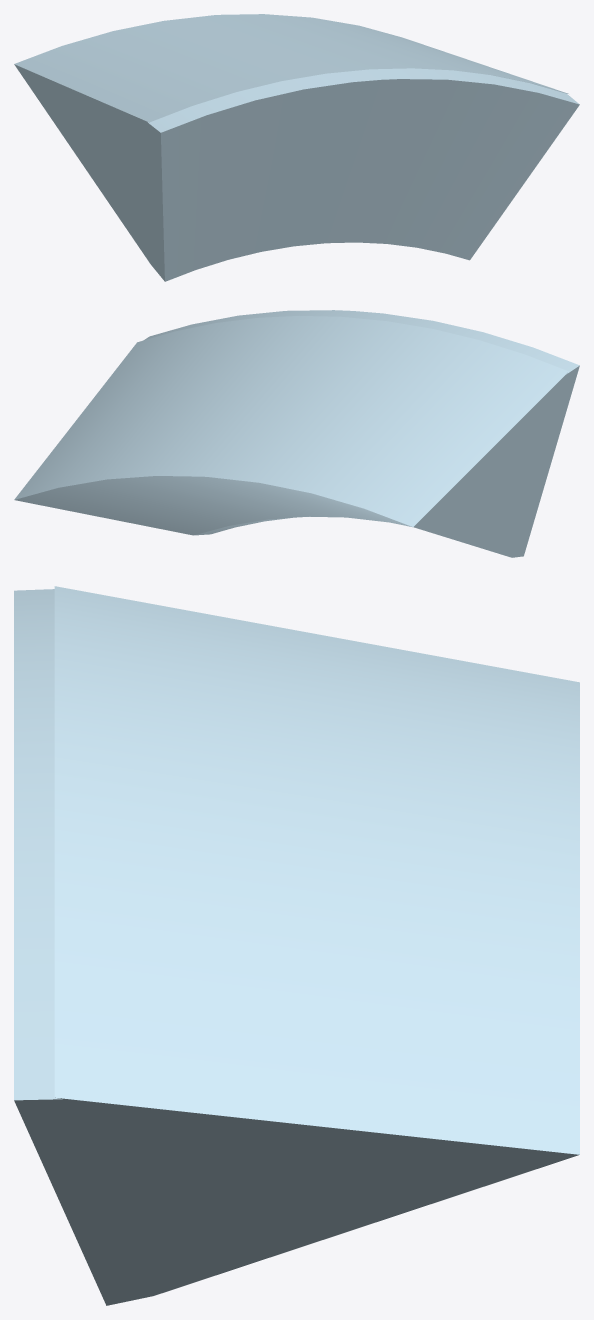
Rendered from Sub_3_Cell_2_3.gltf.
3 renders of one model, top to bottom at view 1: azimuth 30°, elevation 25°; view 2: azimuth 150°, elevation 25°; view 3: azimuth 270°, elevation 25°, orthographic. The views are drawn at different scales.
Visible parts, largest first — view 1: Sub_3_Cell_2_3; view 2: Sub_3_Cell_2_3; view 3: Sub_3_Cell_2_3.
Part boxes in pixels (x1,y1,x2,y2): Sub_3_Cell_2_3: [14, 14, 579, 281]; Sub_3_Cell_2_3: [14, 310, 579, 557]; Sub_3_Cell_2_3: [14, 586, 579, 1305].
Bounding box in the file's own units: 0.0934 × 0.0507 × 0.0594.
